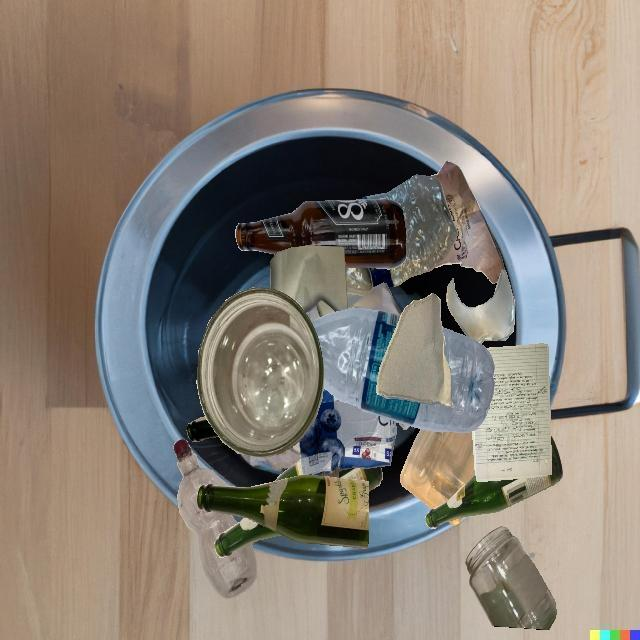cardboard: (299, 387, 396, 478), (376, 294, 452, 407)
glass: (197, 287, 325, 458), (196, 474, 369, 548), (426, 435, 563, 528), (235, 199, 406, 269), (465, 526, 557, 630), (245, 472, 348, 526), (446, 269, 515, 344), (186, 416, 219, 442)
paper: (472, 344, 552, 482), (429, 161, 505, 284), (270, 246, 348, 322), (348, 283, 401, 315)
plastic: (311, 308, 495, 433), (346, 175, 458, 296), (173, 439, 257, 599), (400, 429, 475, 509), (347, 293, 364, 308)
